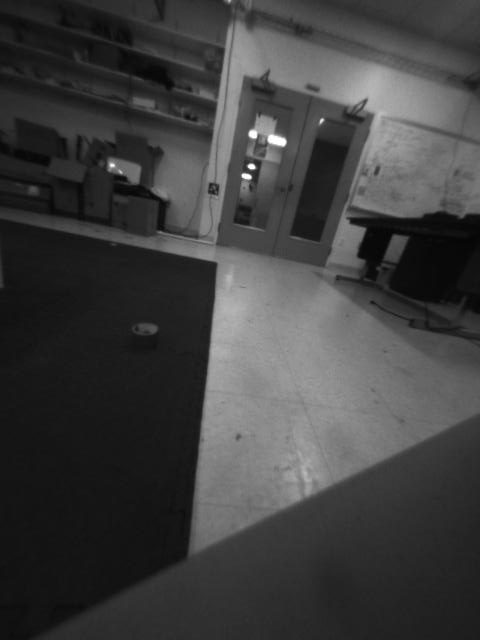dogtoy: (114, 310, 169, 354)
